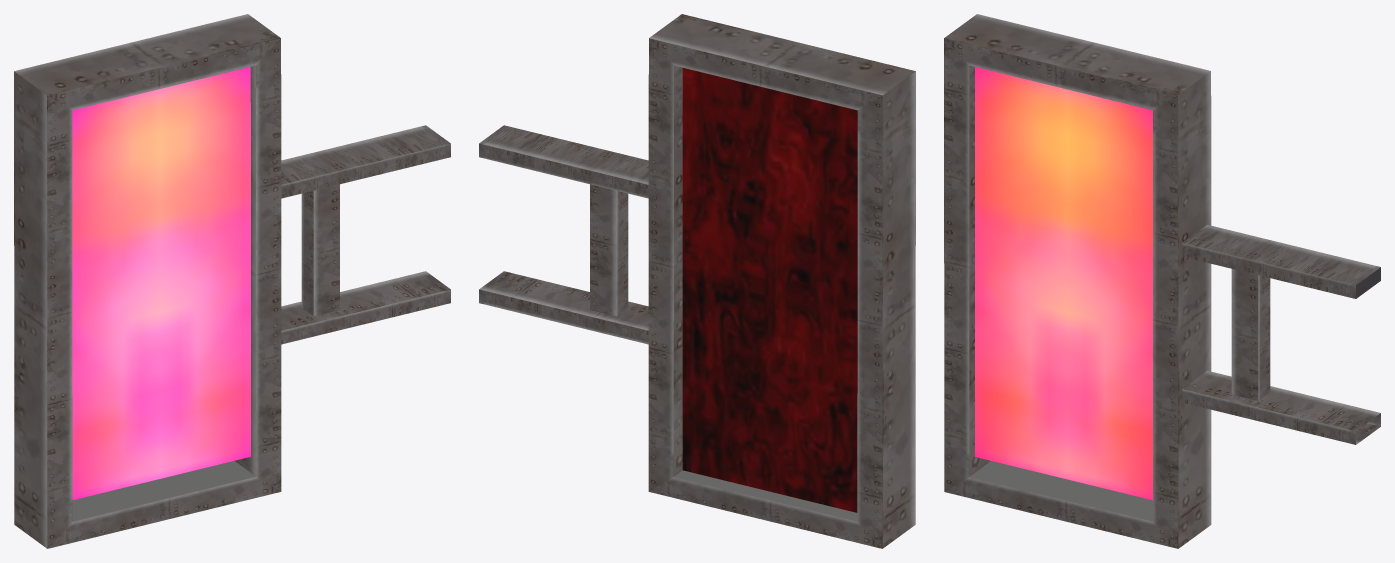
Rendered from japanese-sign-12.glb.
The picture shows the model from 3 angles, left to right: view 1: azimuth 30°, elevation 25°; view 2: azimuth 150°, elevation 25°; view 3: azimuth 330°, elevation 25°; orthographic projection.
Parts seen in each view (by area): view 1: Japanese_Sign_12; view 2: Japanese_Sign_12; view 3: Japanese_Sign_12.
Boxes of the visible parts, x1,y1,x2,y2 form: Japanese_Sign_12: (14,14,450,548); Japanese_Sign_12: (479,14,915,548); Japanese_Sign_12: (944,14,1380,548).
Size of the model in its own units: 0.6693 by 0.7115 by 0.0941.
Materials: 3 (2 with a texture image).
